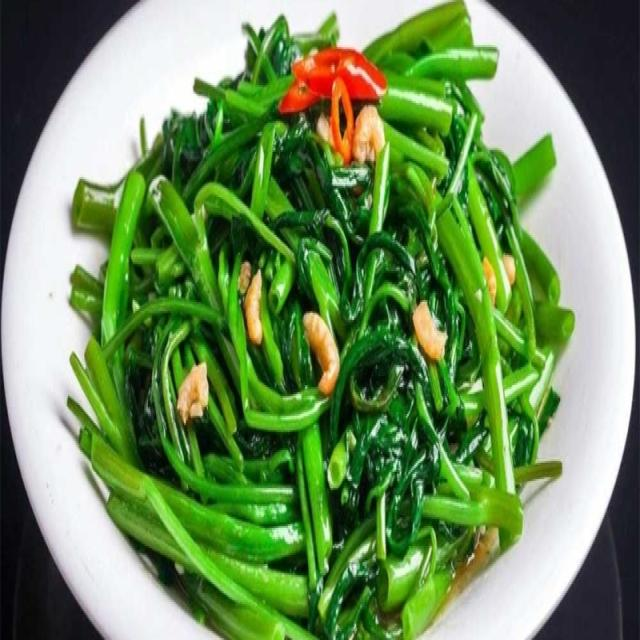rau muong: (67, 0, 574, 638)
